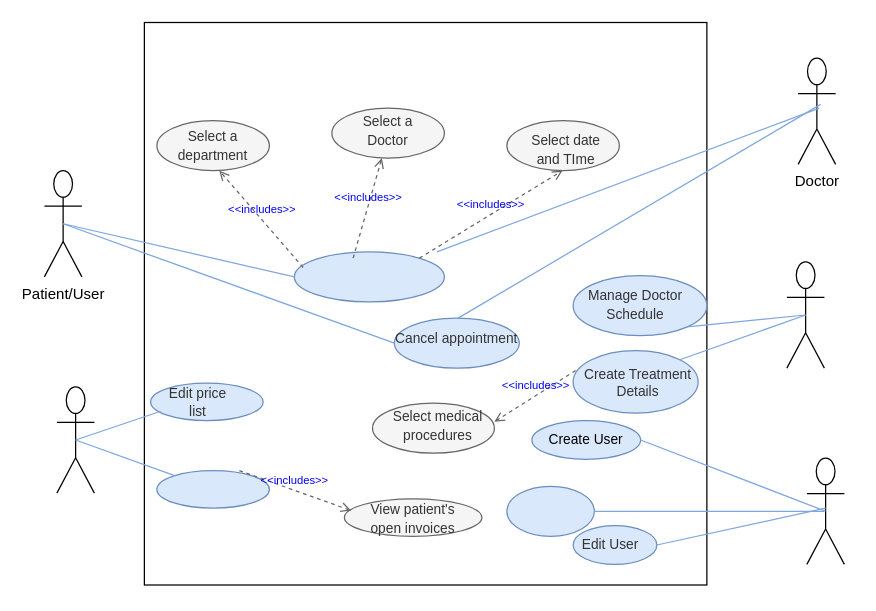
This 876x611 diagram has some shape labels left out. Here are the shapes that lost their labels. From the top down, the centre of each, then its label:
pixel 368 276: Book an appoinment
pixel 805 314: Receptionist
pixel 75 439: Accountant
pixel 212 488: Register payment
pixel 550 510: Approve user
pixel 825 510: IT Admin
